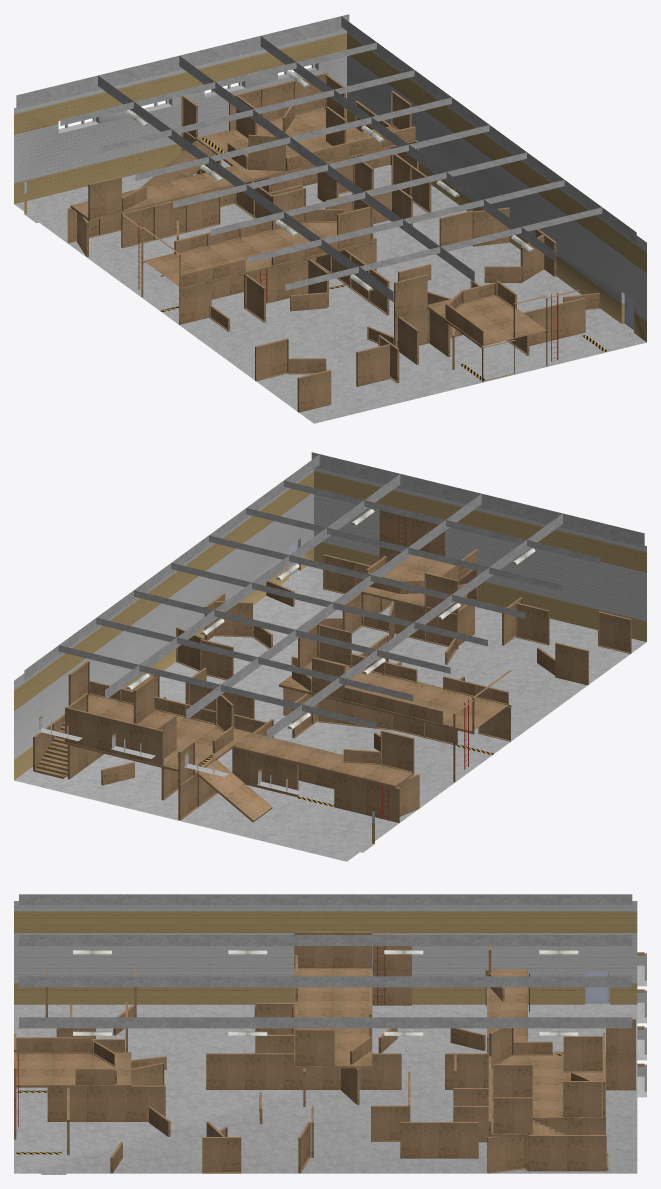
File: Wallbang.glb
The picture shows the model from 3 angles, top to bottom: view 1: azimuth 30°, elevation 25°; view 2: azimuth 150°, elevation 25°; view 3: azimuth 270°, elevation 25°; orthographic projection. The views are drawn at different scales.
Parts seen in each view (by area): view 1: Wallbang; view 2: Wallbang; view 3: Wallbang.
Part boxes in pixels (x1,y1,x2,y2): Wallbang: (14, 14, 646, 423); Wallbang: (14, 452, 646, 861); Wallbang: (14, 894, 646, 1174).
Size of the model in its own units: 22.7 by 7.08 by 35.39.
Materials: 7 (7 with a texture image).
